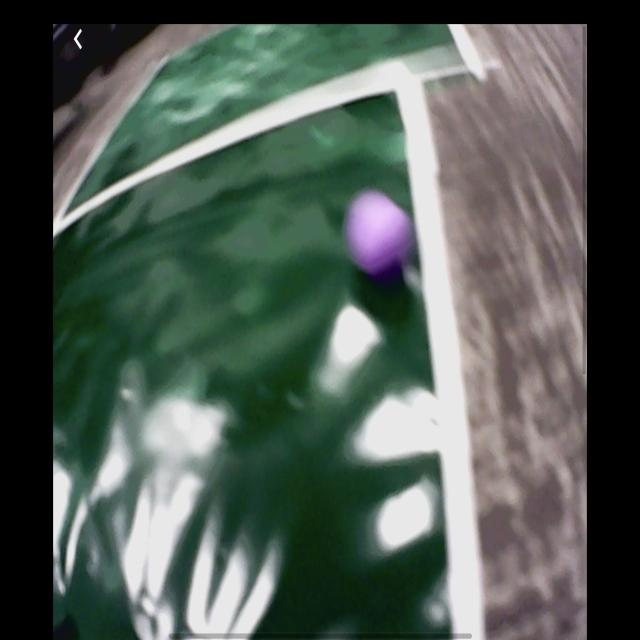ball: (344, 189, 417, 279)
